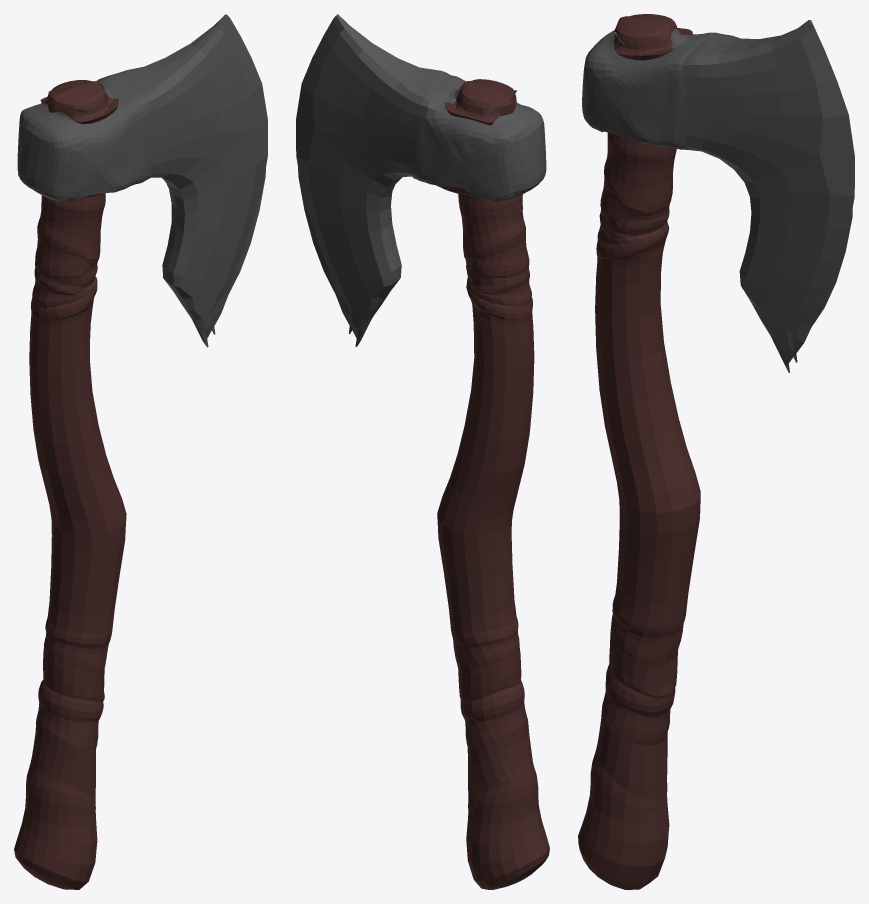
File: VikingGoblin_s_AXEAXE.fbx
3 renders of one model, left to right at view 1: azimuth 30°, elevation 25°; view 2: azimuth 150°, elevation 25°; view 3: azimuth 330°, elevation 25°, orthographic. The views are drawn at different scales.
Visible parts, largest first — view 1: wwwww, Extract2; view 2: wwwww, Extract2; view 3: wwwww, Extract2.
Part boxes in pixels (x1,y1,x2,y2): wwwww: [14, 80, 126, 889]; Extract2: [17, 14, 267, 347]; wwwww: [436, 79, 549, 889]; Extract2: [296, 14, 546, 346]; wwwww: [578, 14, 700, 889]; Extract2: [582, 20, 854, 372].
Bounding box in the file's own units: 3203 × 10269 × 1067.
